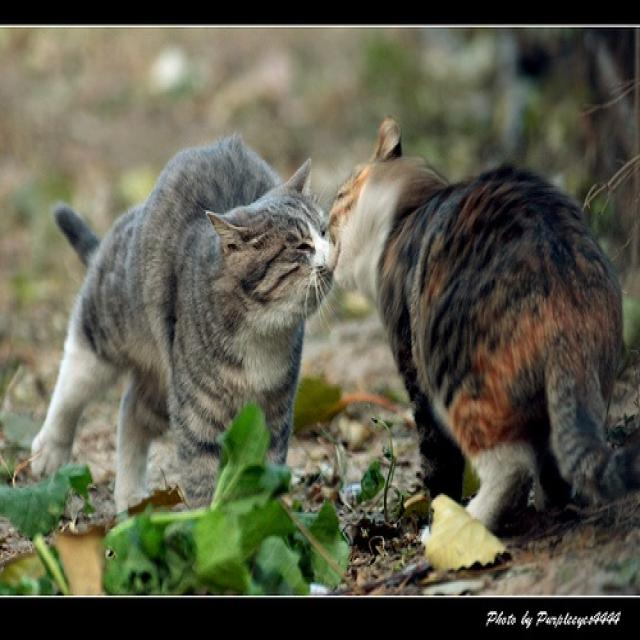cat: (324, 111, 636, 555), (23, 123, 337, 519)
